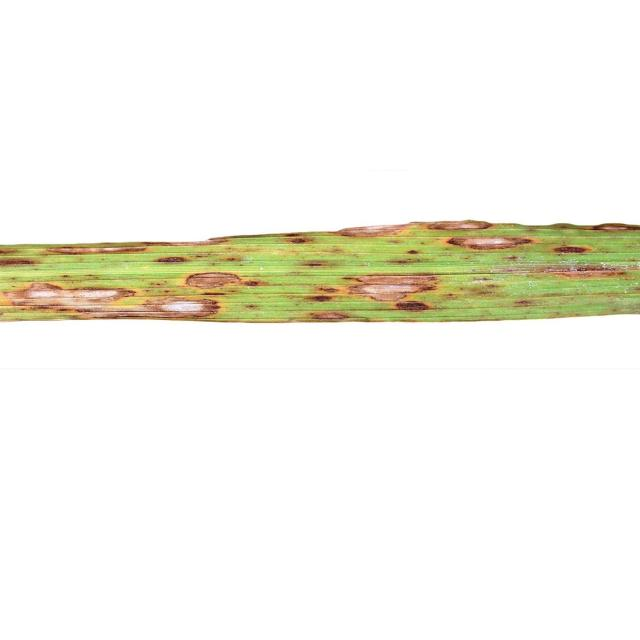Leaf blast: (0, 190, 640, 404)
